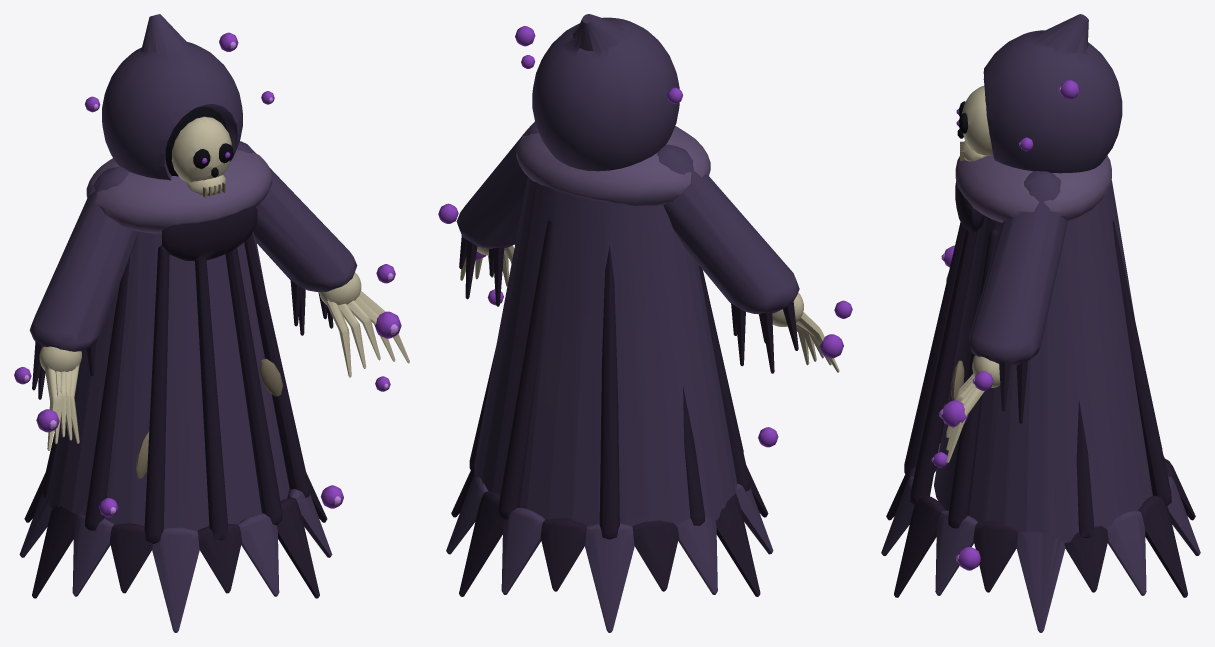
File: voidraith.glb
The picture shows the model from 3 angles, left to right: view 1: azimuth 30°, elevation 25°; view 2: azimuth 150°, elevation 25°; view 3: azimuth 270°, elevation 25°; orthographic projection. The views are drawn at different scales.
Visible parts, largest first — view 1: creature; view 2: creature; view 3: creature.
Boxes of the visible parts, x1,y1,x2,y2 form: creature: [14, 14, 409, 632]; creature: [438, 14, 852, 632]; creature: [881, 14, 1200, 632].
Size of the model in its own units: 0.7557 by 1 by 0.5296.
